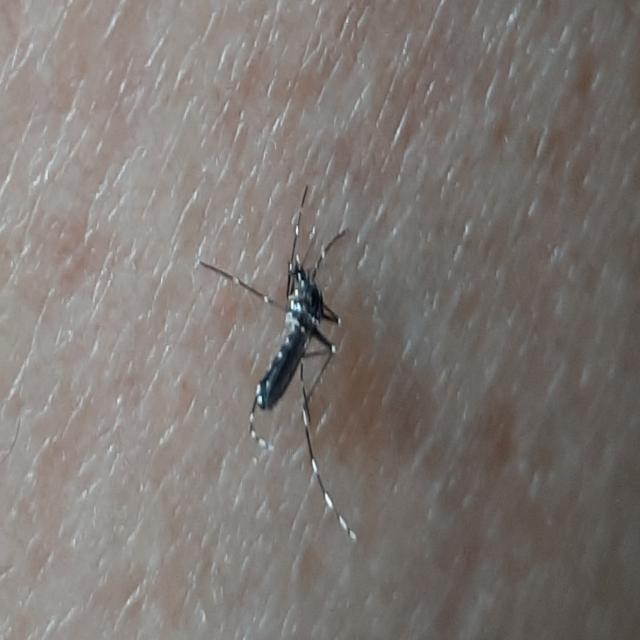albopictus: (204, 163, 362, 550)
